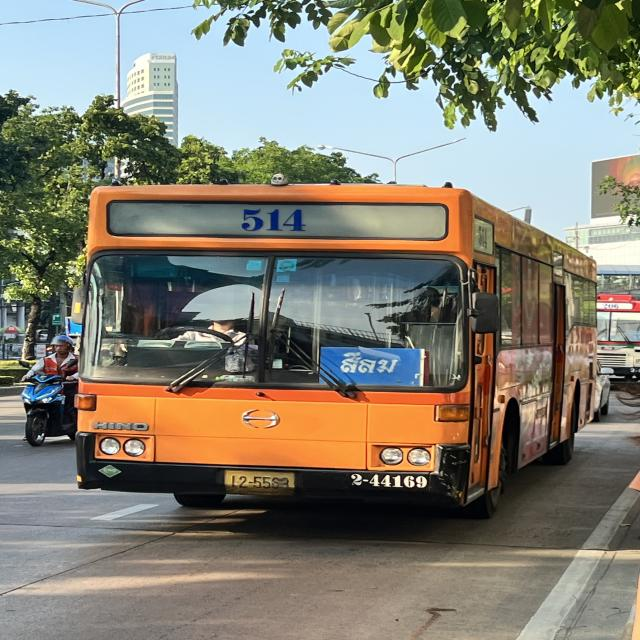BMTA-bus: (66, 168, 601, 515)
Bus-Line-Number: (224, 202, 320, 238)
Destination-Sign-Normal: (318, 347, 419, 384)
